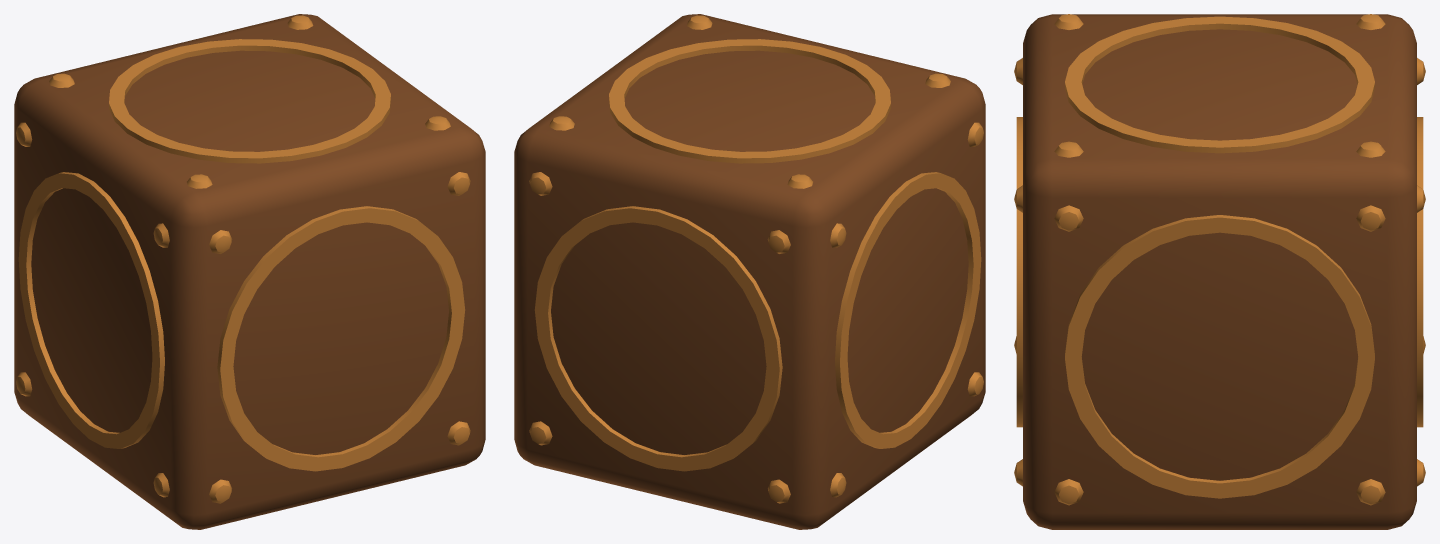
The model's file is used_block.glb.
3 views of the same model, side by side, from view 1: azimuth 30°, elevation 25°; view 2: azimuth 150°, elevation 25°; view 3: azimuth 270°, elevation 25° (orthographic). The views are drawn at different scales.
Parts seen in each view (by area): view 1: used_block; view 2: used_block; view 3: used_block.
Boxes of the visible parts, <box> form: used_block: <box>14,14,485,529</box>; used_block: <box>514,14,985,529</box>; used_block: <box>1014,14,1425,529</box>.
Size of the model in its own units: 0.982 by 0.991 by 0.982.
